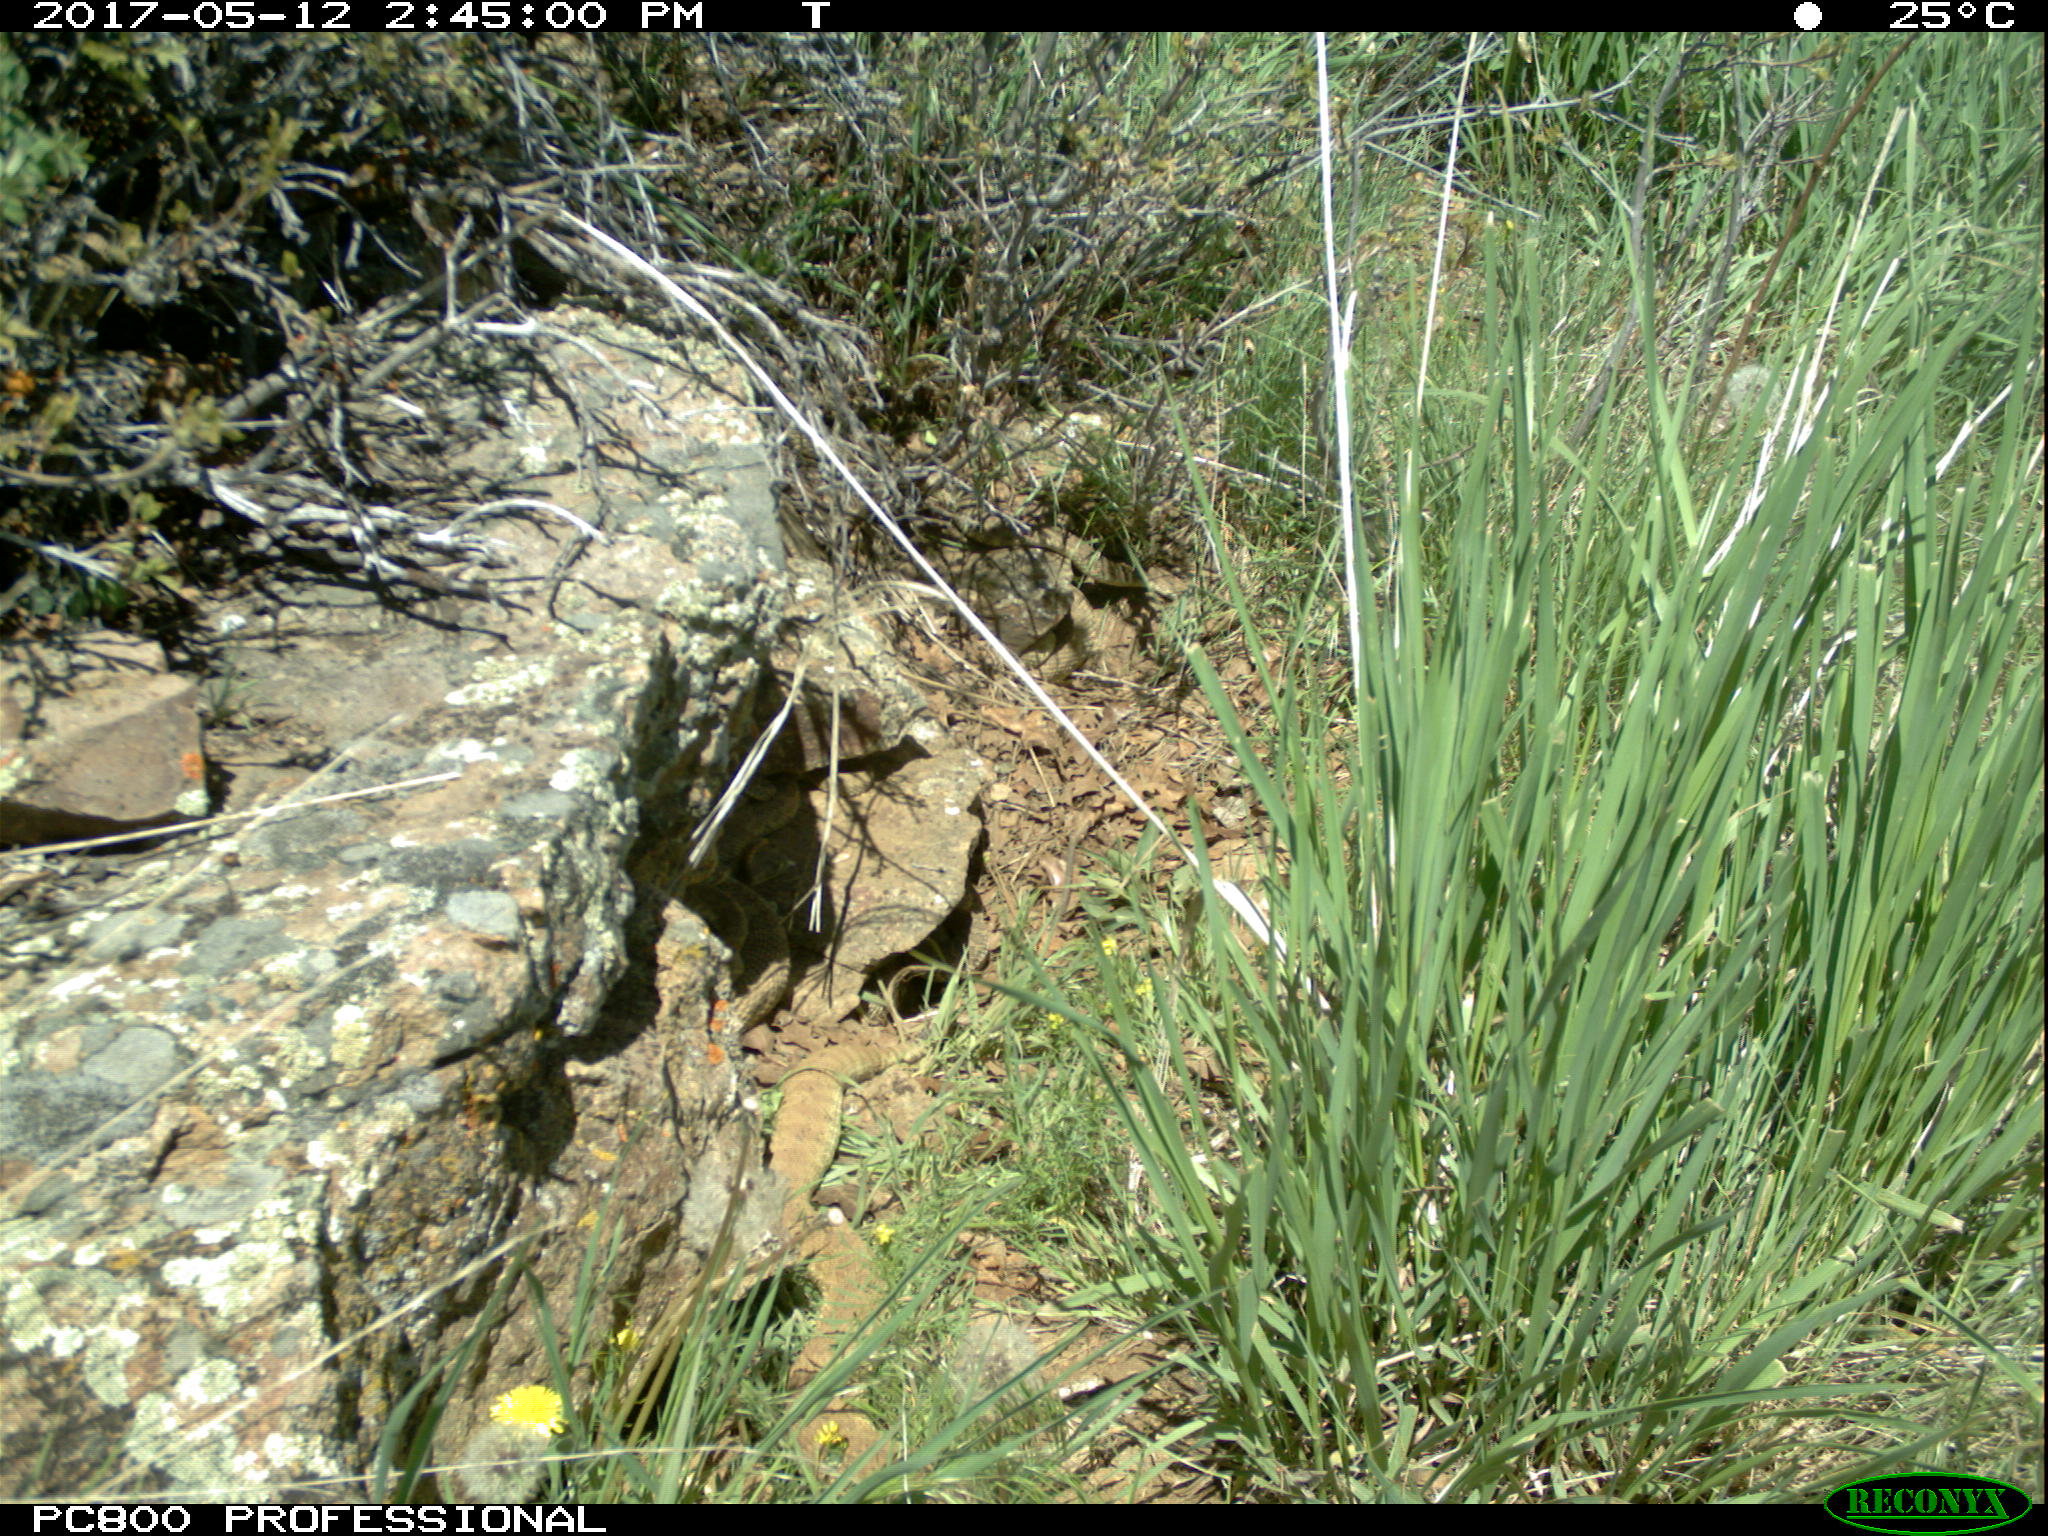snake: (769, 1037, 911, 1488), (980, 520, 1192, 668), (695, 779, 801, 1033)
